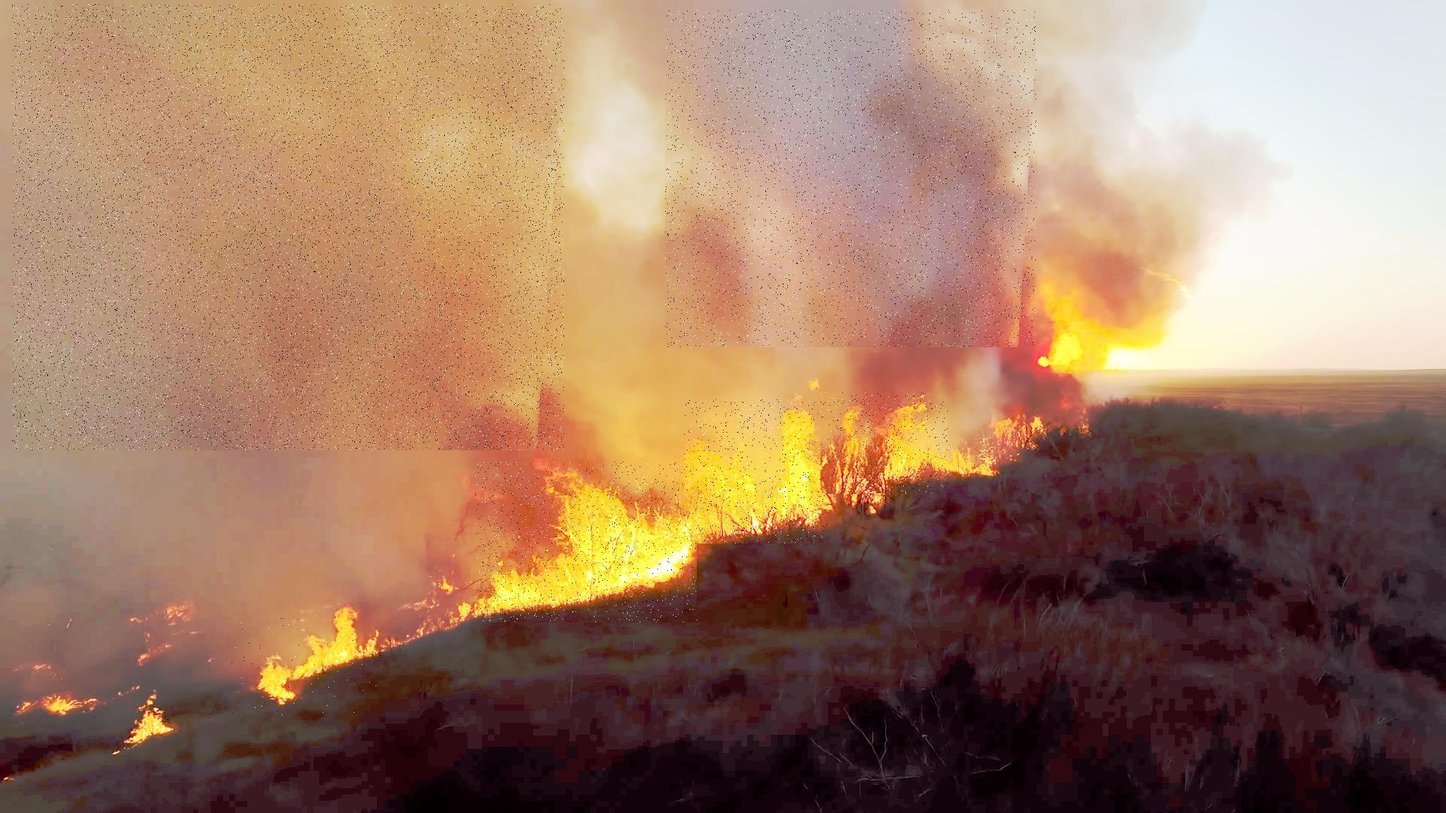fire: (475, 462, 697, 622), (683, 399, 825, 543), (232, 614, 378, 717), (820, 392, 948, 494)
smoke: (12, 4, 564, 450), (665, 10, 1036, 347)
